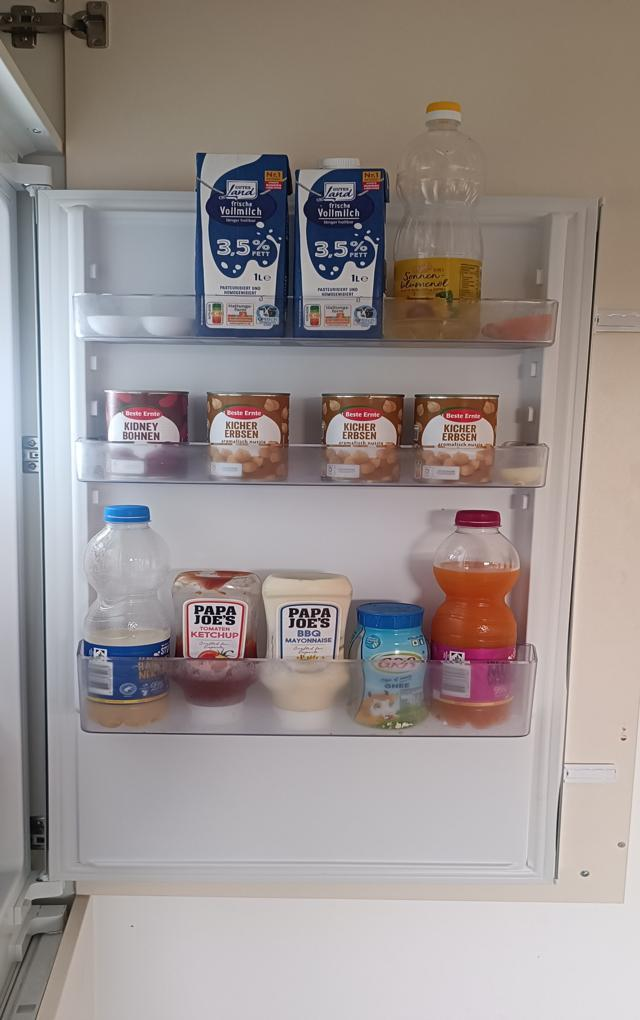bananajuice: (83, 504, 172, 730)
chickpeas: (410, 394, 498, 486), (205, 391, 290, 484), (319, 392, 401, 485)
ghee: (355, 604, 429, 735)
kidneybeans: (104, 387, 190, 485)
mayoniasie: (262, 571, 354, 733)
milk: (194, 149, 291, 345), (293, 156, 389, 347)
oil: (395, 99, 485, 344)
orangejuice: (430, 508, 520, 730)
tomatoketchup: (172, 569, 263, 729)
